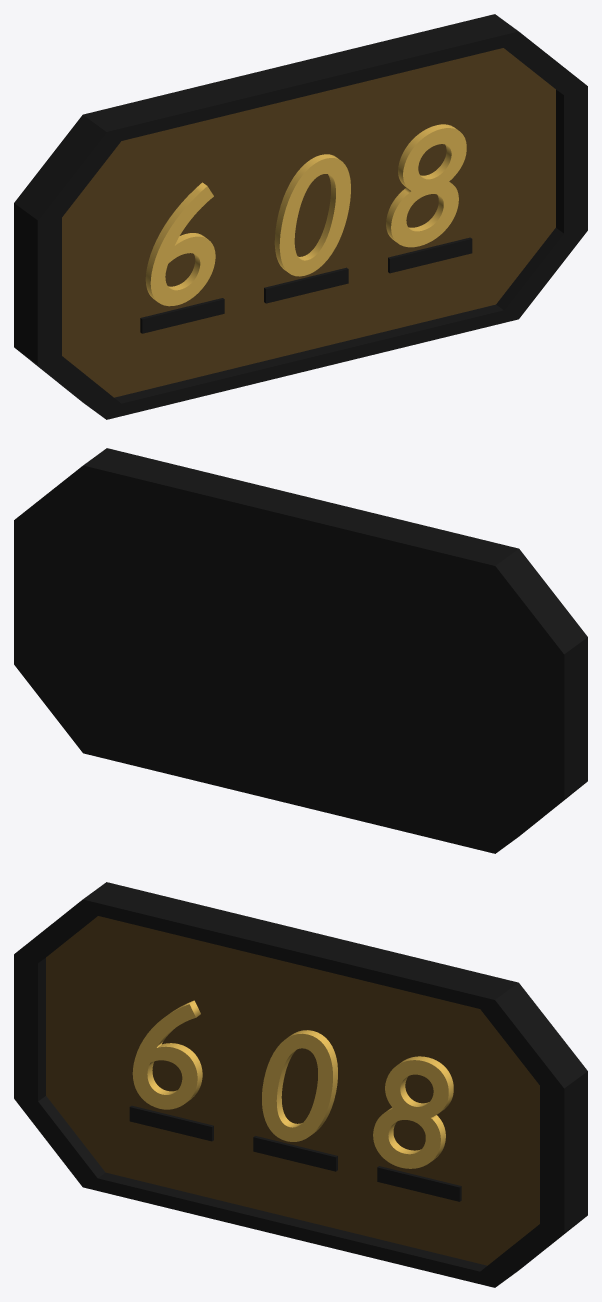
The model's file is 608_doorsign.fbx.
The picture shows the model from 3 angles, top to bottom: view 1: azimuth 30°, elevation 25°; view 2: azimuth 150°, elevation 25°; view 3: azimuth 330°, elevation 25°; orthographic projection.
Visible parts, largest first — view 1: 608_Door608SIGN; view 2: 608_Door608SIGN; view 3: 608_Door608SIGN.
Boxes of the visible parts, <box> form: 608_Door608SIGN: <box>14,14,587,419</box>; 608_Door608SIGN: <box>14,448,587,853</box>; 608_Door608SIGN: <box>14,882,587,1287</box>.
Bounding box in the file's own units: 21.87 × 10.94 × 1.64.
